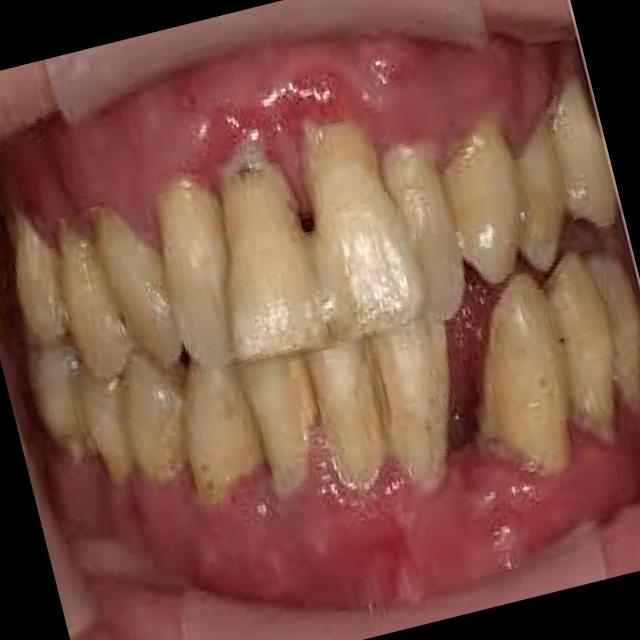Tooth: (306, 120, 430, 333), (224, 158, 336, 360), (481, 276, 574, 471), (158, 179, 239, 374), (381, 140, 466, 318), (366, 314, 448, 484), (92, 207, 180, 362), (304, 320, 384, 486), (545, 254, 615, 443), (58, 220, 134, 379), (184, 355, 264, 498), (443, 127, 517, 280), (240, 352, 318, 490), (552, 75, 613, 229), (116, 352, 188, 481), (512, 122, 565, 271), (588, 254, 640, 405), (14, 211, 66, 345), (76, 367, 133, 487), (32, 340, 84, 459)
